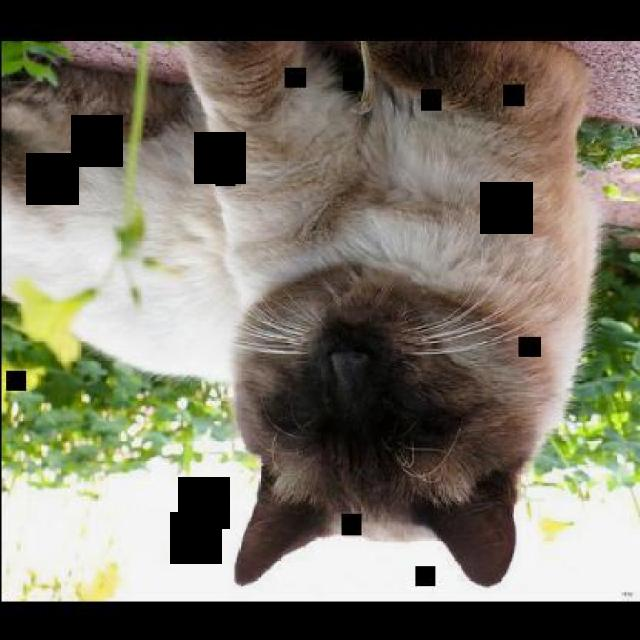unauthorized: (0, 39, 605, 588)
